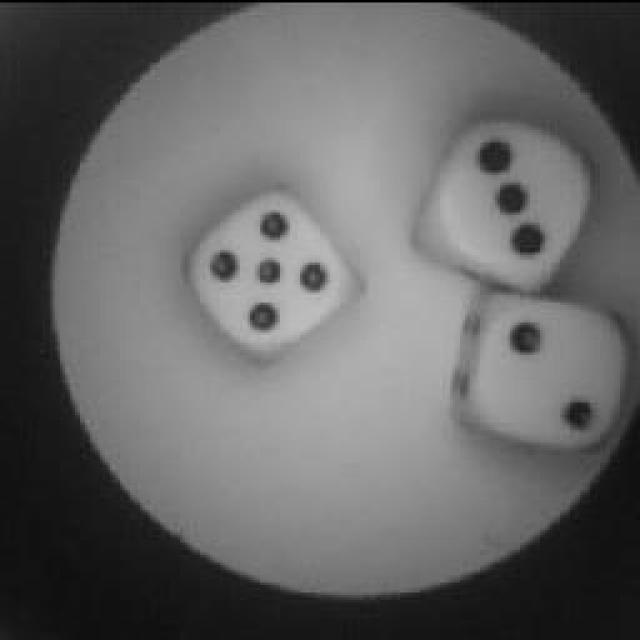dice_2: (452, 278, 632, 450)
dice_3: (420, 118, 590, 288)
dice_5: (180, 182, 360, 352)
